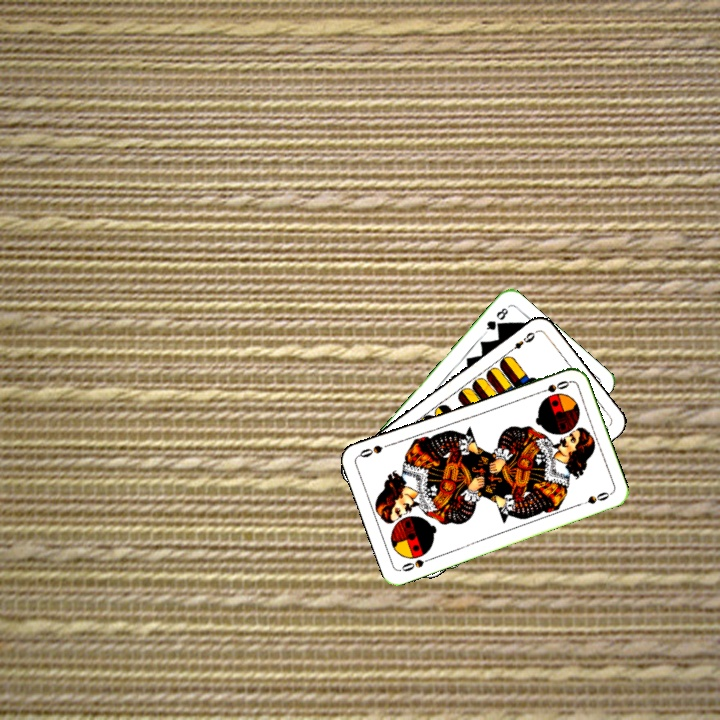E9: (504, 327, 540, 356)
G8: (481, 304, 511, 336)
SO: (396, 553, 436, 574), (533, 376, 572, 397)
